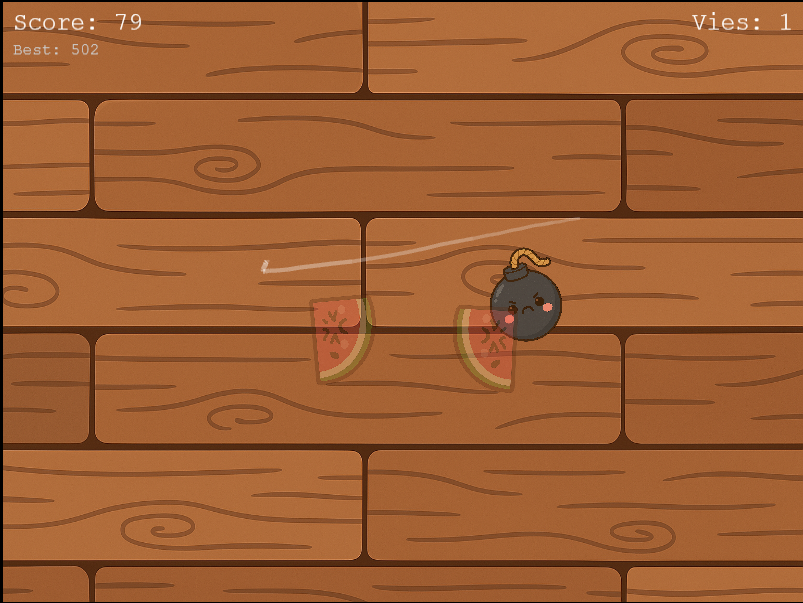bomb: (473, 242, 580, 349)
